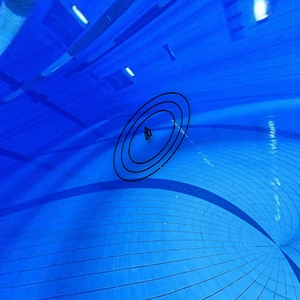circle: (112, 89, 196, 189)
submarine: (139, 123, 156, 144)
